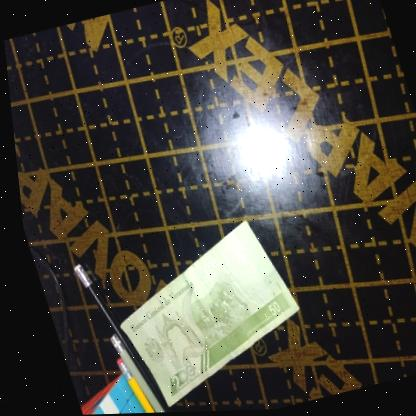fifty-back-vef: (87, 213, 314, 413)
